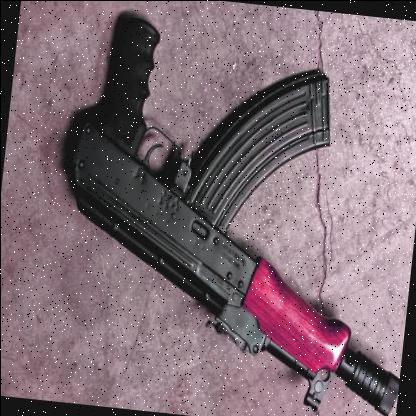rifle: (24, 4, 416, 416)
